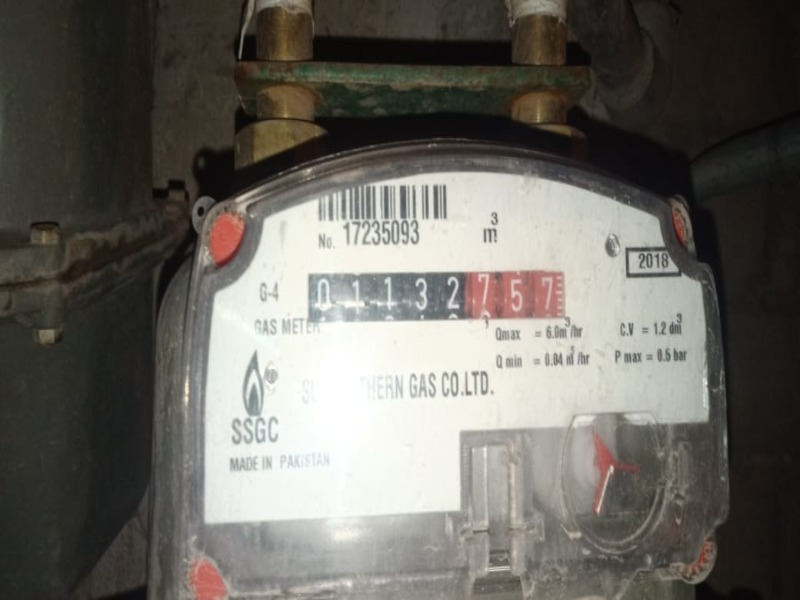ssgc: (304, 265, 567, 326)
